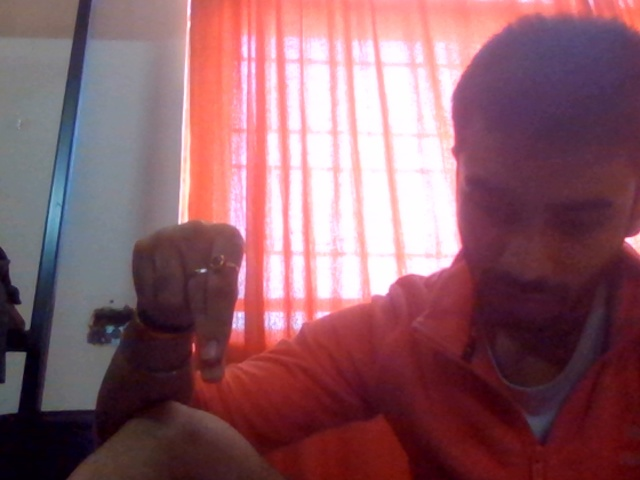Q: (83, 195, 266, 413)
